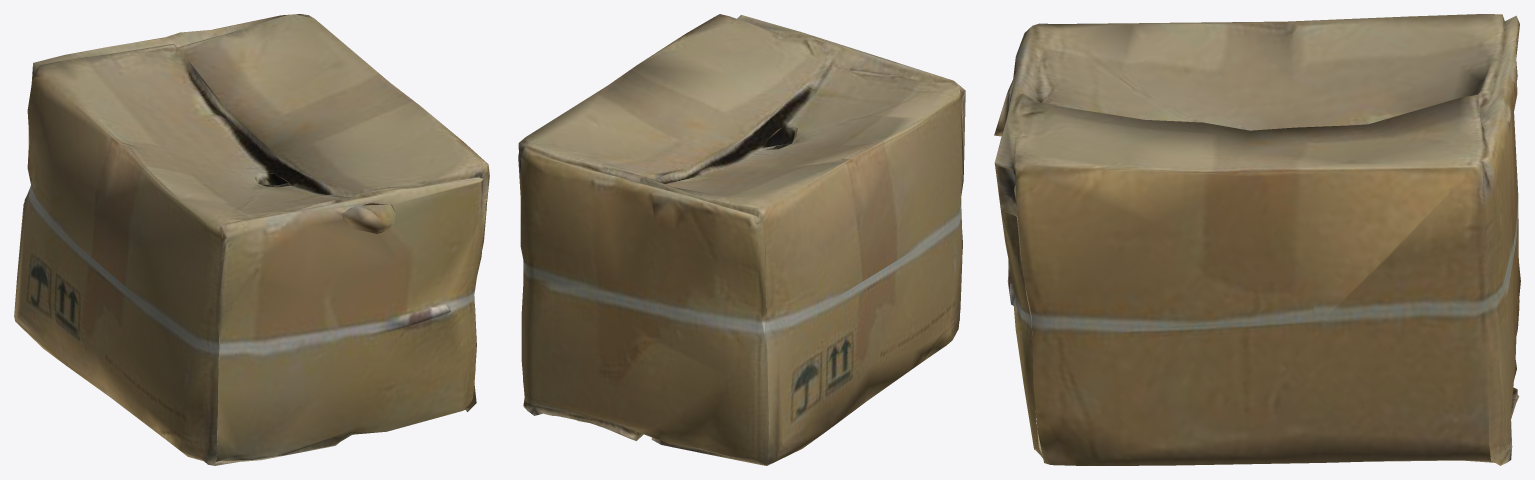
Rendered from cardboard_box_01.glb.
3 views of the same model, side by side, from view 1: azimuth 30°, elevation 25°; view 2: azimuth 150°, elevation 25°; view 3: azimuth 270°, elevation 25° (orthographic). The views are drawn at different scales.
Parts seen in each view (by area): view 1: cardboard_box_01; view 2: cardboard_box_01; view 3: cardboard_box_01.
Part boxes in pixels (x1,y1,x2,y2): cardboard_box_01: (14, 14, 489, 465); cardboard_box_01: (518, 14, 965, 465); cardboard_box_01: (994, 14, 1520, 465).
Size of the model in its own units: 0.3872 by 0.3403 by 0.5151.
Materials: 1 (1 with a texture image).
